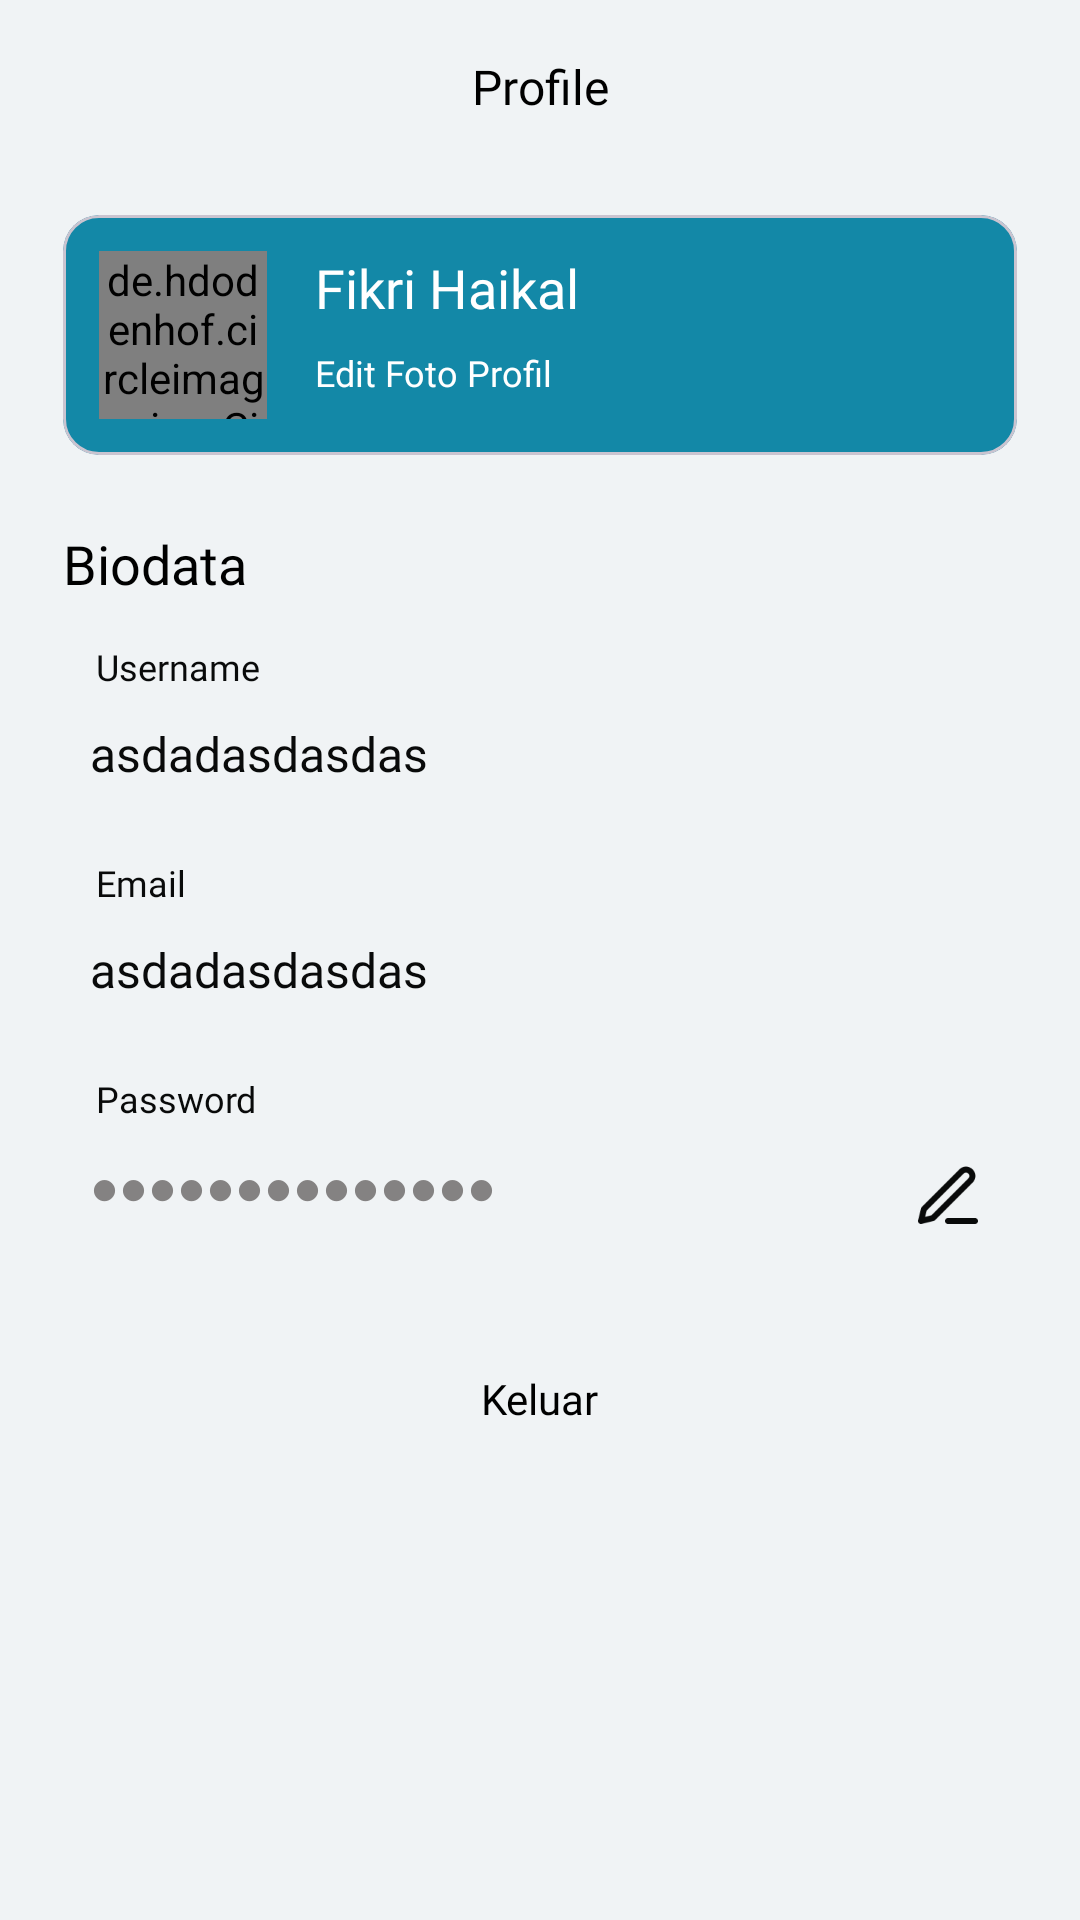

Screen size 1080px x 1920px. Icon name, then its box in pixels as (x1, y1, x2, y2):
edit: (918, 1166, 978, 1224)
